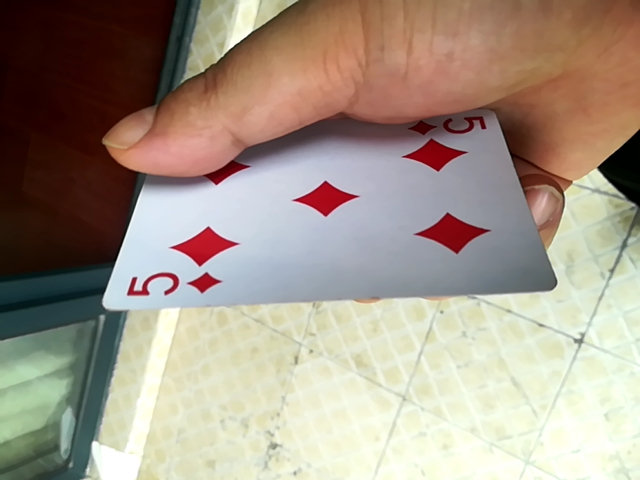fk 5: (89, 129, 546, 318)
